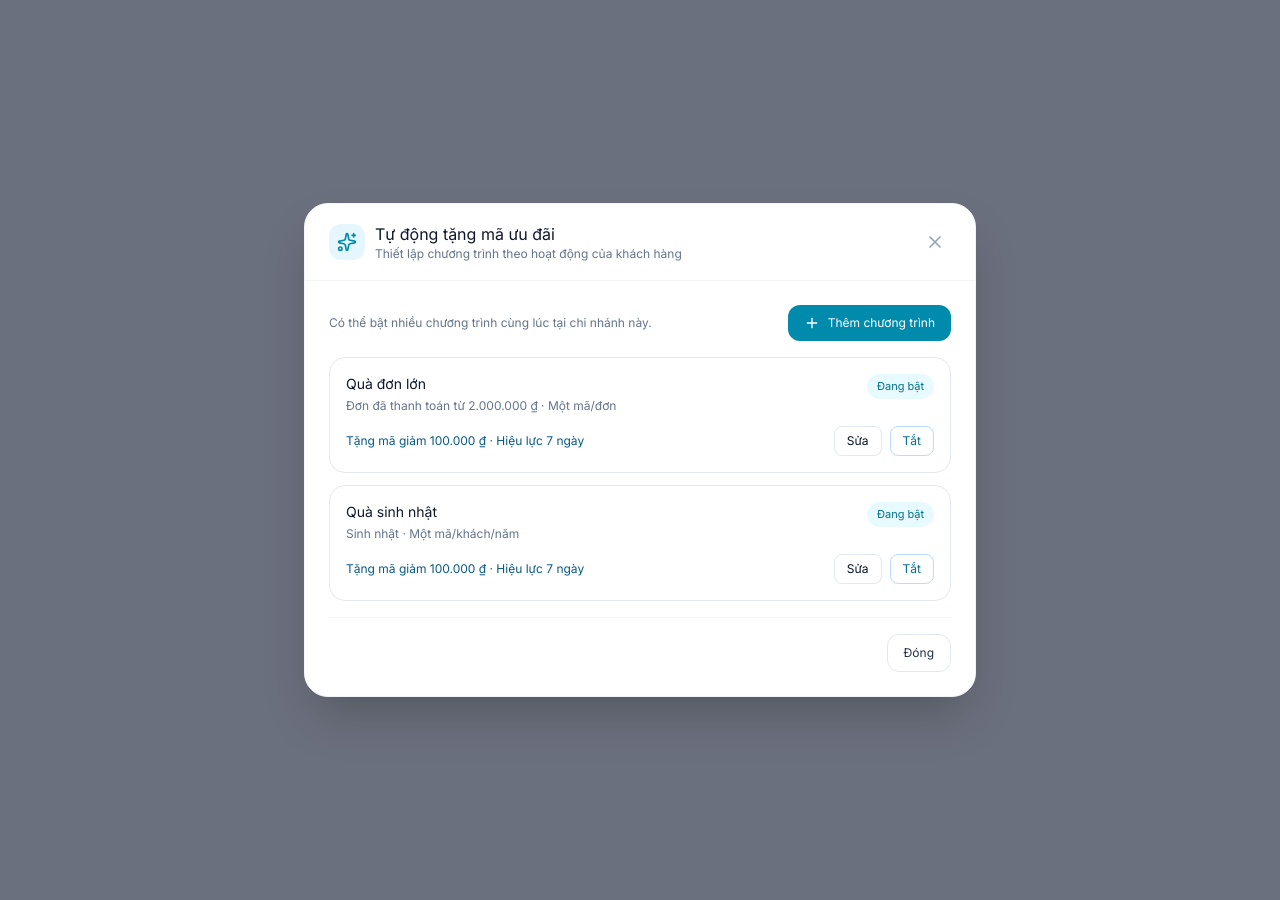
Test: shows only birthday fields when that activity is selected
Step 1. Click the button "Thêm chương trình" → click(869, 323), box [788,305,951,341]
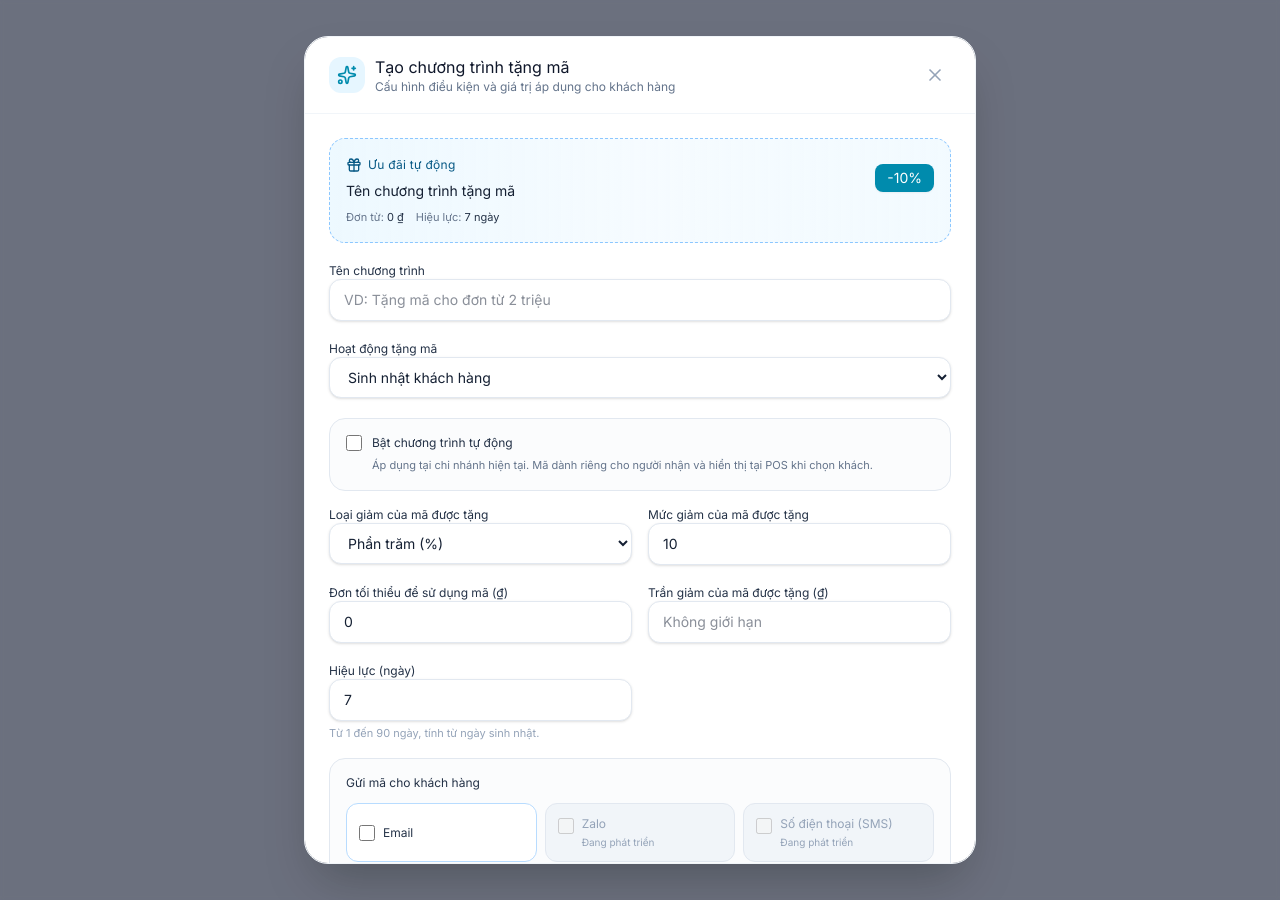
Expected: the field labelled "Giá trị đơn tối thiểu để tặng mã (₫)" is not shown
Step 2. Select "Đơn hàng đạt mức tiền" in the dropdown labelled "Hoạt động tặng mã" → (640, 377), box [329,356,951,398]
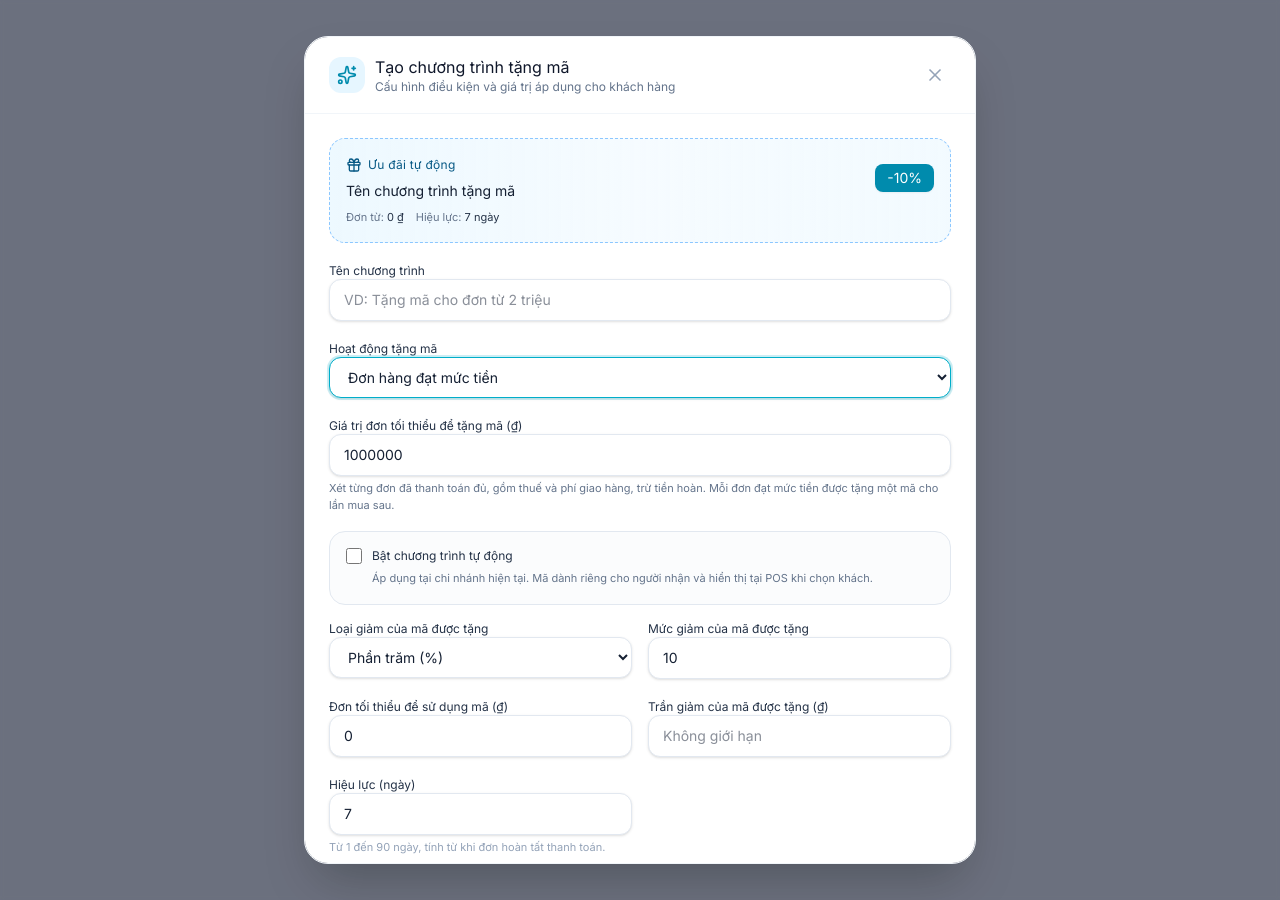
Now the number field labelled "Giá trị đơn tối thiểu để tặng mã (₫)" is shown, box [329,434,951,476]
Step 3. Select "Sinh nhật khách hàng" in the dropdown labelled "Hoạt động tặng mã" → (640, 377), box [329,356,951,398]
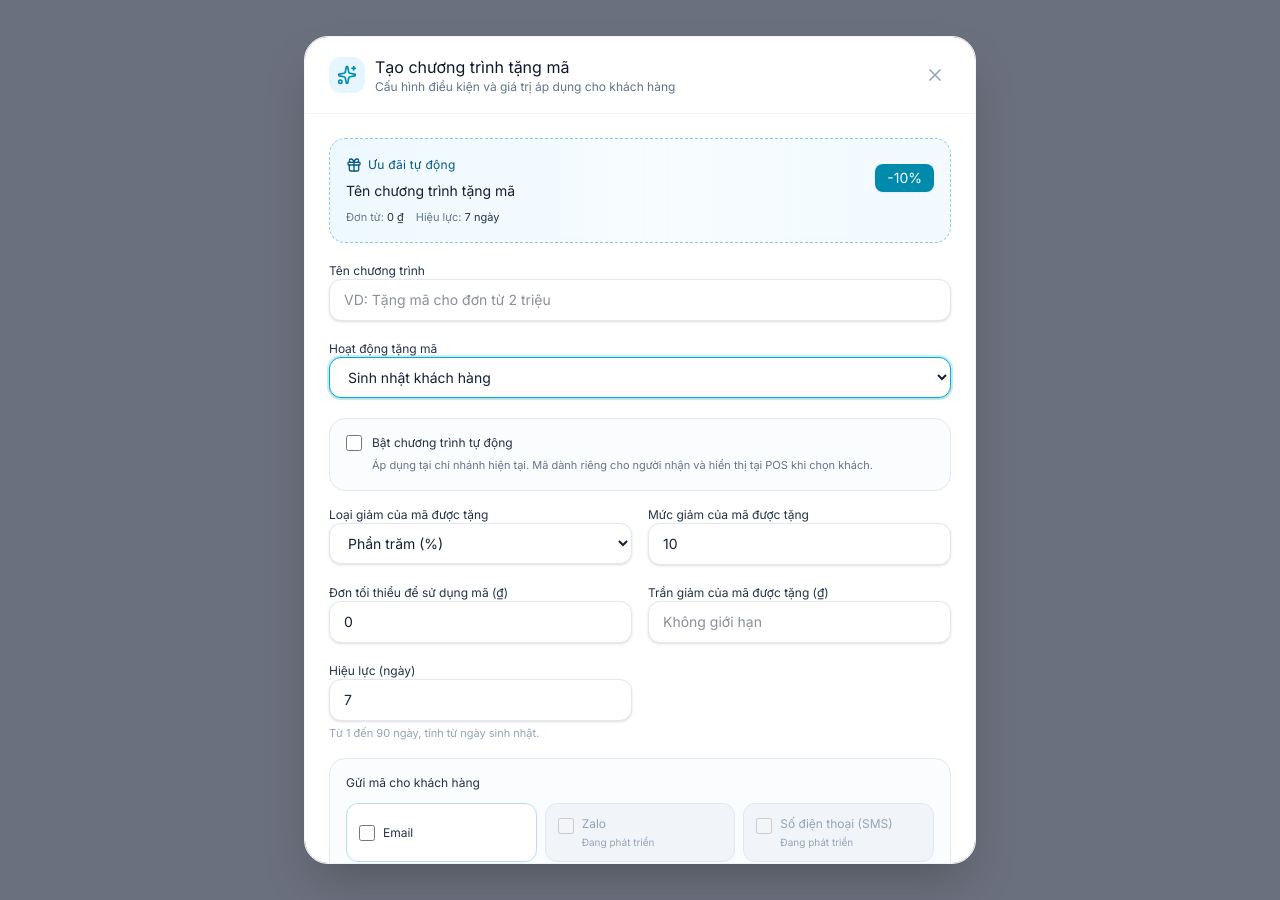
Now the label labelled "Giá trị đơn tối thiểu để tặng mã (₫)" is gone
